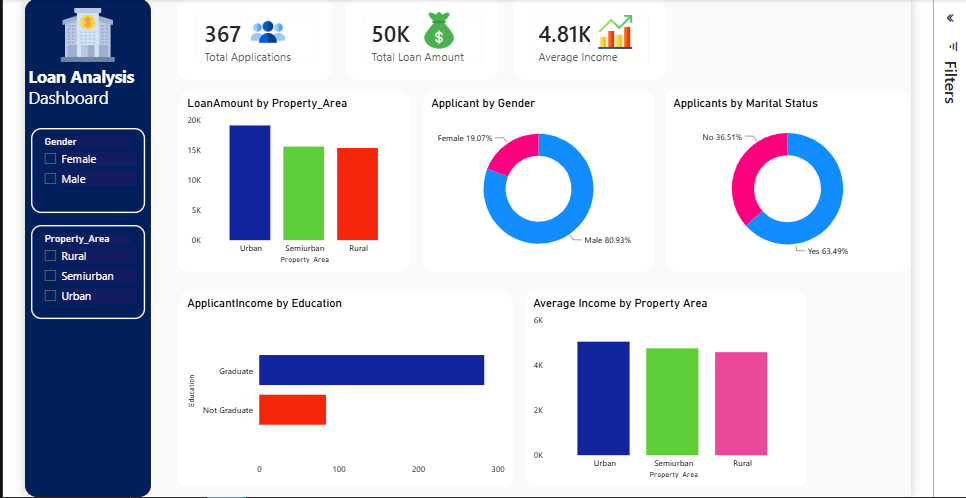

Layout of this report page (visuals, bound fields, positions):
{"tool":"powerbi","page":{"name":"Page 1","canvas":[1280,720],"ordinal":0},"visuals":[{"type":"shape","box":[0,0,182.2,720],"z":0},{"type":"clusteredColumnChart","title":" LoanAmount by Property_Area","fields":{"Category":["loan1.Property_Area"],"Y":["Sum(loan1.LoanAmount)"]},"box":[222.7,133,334,261.7],"z":1000},{"type":"donutChart","title":"Applicant  by Gender","fields":{"Category":["loan1.Gender"],"Y":["CountNonNull(loan1.Loan_ID)"]},"box":[575.4,133,334,261.7],"z":2000},{"type":"clusteredColumnChart","title":"Average Income by Property Area","fields":{"Category":["loan1.Property_Area"],"Y":["Avg(loan1.ApplicantIncome)"]},"box":[722.9,422.2,406.3,283.4],"z":3000},{"type":"clusteredBarChart","title":" ApplicantIncome by Education","fields":{"Category":["loan1.Education"],"Y":["CountNonNull(loan1.ApplicantIncome)"]},"box":[222.7,422.2,482.9,283.4],"z":4000},{"type":"donutChart","title":"Applicants by Marital Status","fields":{"Category":["loan1.Married"],"Y":["CountNonNull(loan1.Loan_ID)"]},"box":[925.3,133,354.2,261.7],"z":5000},{"type":"cardVisual","fields":{"Data":["loan1.Total Applications"]},"box":[222.7,0,221.2,117.1],"z":6000},{"type":"cardVisual","fields":{"Data":["loan1.Total Loan Amount"]},"box":[464.1,0,221.2,117.1],"z":7000},{"type":"cardVisual","fields":{"Data":["loan1.Average Income"]},"box":[705.5,0,221.2,117.1],"z":8000},{"type":"slicer","fields":{"Values":["loan1.Gender"]},"box":[8.7,186.5,164.8,122.9],"z":9000},{"type":"slicer","fields":{"Values":["loan1.Property_Area"]},"box":[8.7,326.7,164.8,135.9],"z":10000},{"type":"textbox","box":[0,91.1,182.2,52],"z":11000},{"type":"textbox","box":[0,121.4,182.2,43.4],"z":12000},{"type":"image","box":[31.8,13,117.1,78.1],"z":13000},{"type":"image","box":[312.3,23.1,78.1,49.2],"z":14000},{"type":"image","box":[816.9,23.1,73.7,49.2],"z":15000},{"type":"image","box":[556.6,18.8,83.9,53.5],"z":15001}]}

Visuals, with their boxes in screenshot pixels (x1, y1, x2, y2):
shape: select_region(23, 13, 147, 497)
" LoanAmount by Property_Area" clusteredColumnChart: select_region(175, 103, 402, 282)
"Applicant  by Gender" donutChart: select_region(415, 103, 643, 282)
"Average Income by Property Area" clusteredColumnChart: select_region(516, 301, 793, 494)
" ApplicantIncome by Education" clusteredBarChart: select_region(175, 301, 504, 494)
"Applicants by Marital Status" donutChart: select_region(654, 103, 896, 282)
cardVisual - loan1.Total Applications: select_region(175, 13, 325, 92)
cardVisual - loan1.Total Loan Amount: select_region(339, 13, 490, 92)
cardVisual - loan1.Average Income: select_region(504, 13, 655, 92)
slicer - loan1.Gender: select_region(29, 140, 141, 224)
slicer - loan1.Property_Area: select_region(29, 235, 141, 328)
textbox: select_region(23, 75, 147, 110)
textbox: select_region(23, 95, 147, 125)
image: select_region(44, 21, 124, 75)
image: select_region(236, 28, 289, 62)
image: select_region(580, 28, 630, 62)
image: select_region(402, 25, 460, 62)
